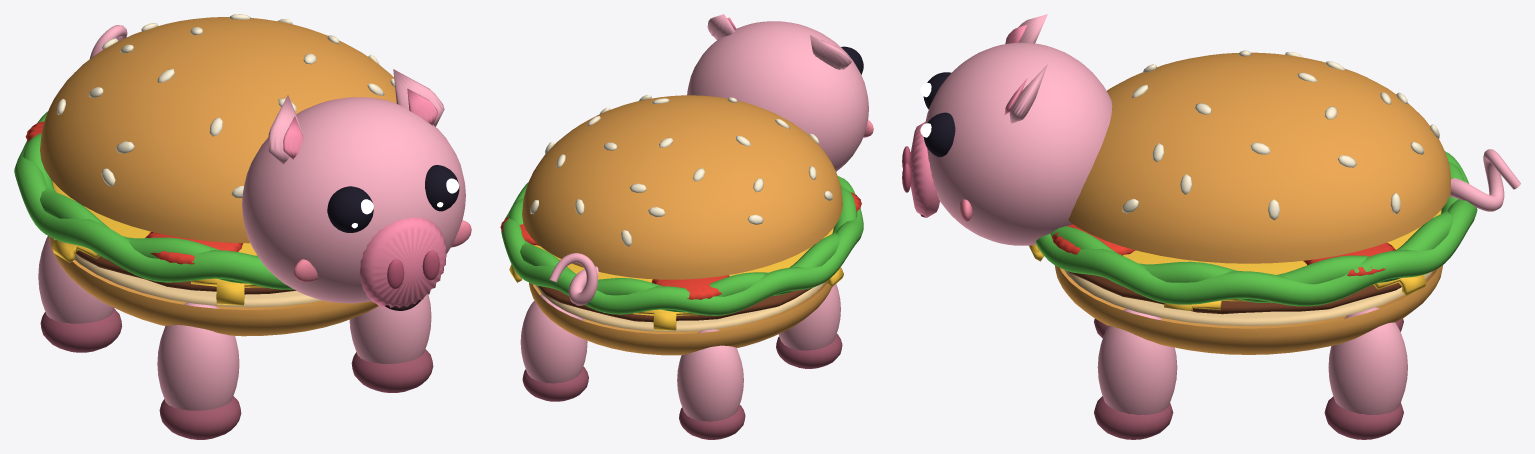
The model's file is pilot_gris_burger.glb.
3 views of the same model, side by side, from view 1: azimuth 30°, elevation 25°; view 2: azimuth 150°, elevation 25°; view 3: azimuth 270°, elevation 25° (orthographic). The views are drawn at different scales.
Parts seen in each view (by area): view 1: kropp, hode, bein_vf, bein_hf, bein_vb, hale; view 2: kropp, hode, bein_vb, bein_hb, bein_vf, hale; view 3: kropp, hode, bein_hb, bein_hf, hale.
Boxes of the visible parts, bbox=[...] form: kropp: bbox=[14, 14, 396, 336]; hode: bbox=[242, 69, 471, 310]; bein_vf: bbox=[157, 302, 241, 439]; bein_hf: bbox=[349, 294, 433, 392]; bein_vb: bbox=[38, 236, 122, 352]; hale: bbox=[89, 25, 127, 58]; kropp: bbox=[500, 95, 863, 355]; hode: bbox=[687, 14, 873, 171]; bein_vb: bbox=[677, 329, 745, 439]; bein_hb: bbox=[520, 294, 588, 401]; bein_vf: bbox=[776, 283, 842, 368]; hale: bbox=[549, 253, 598, 305]; kropp: bbox=[1029, 50, 1477, 354]; hode: bbox=[902, 14, 1112, 245]; bein_hb: bbox=[1324, 307, 1407, 439]; bein_hf: bbox=[1094, 308, 1177, 439]; hale: bbox=[1449, 149, 1520, 211].
Size of the model in its own units: 1.06 by 0.9708 by 1.56.
